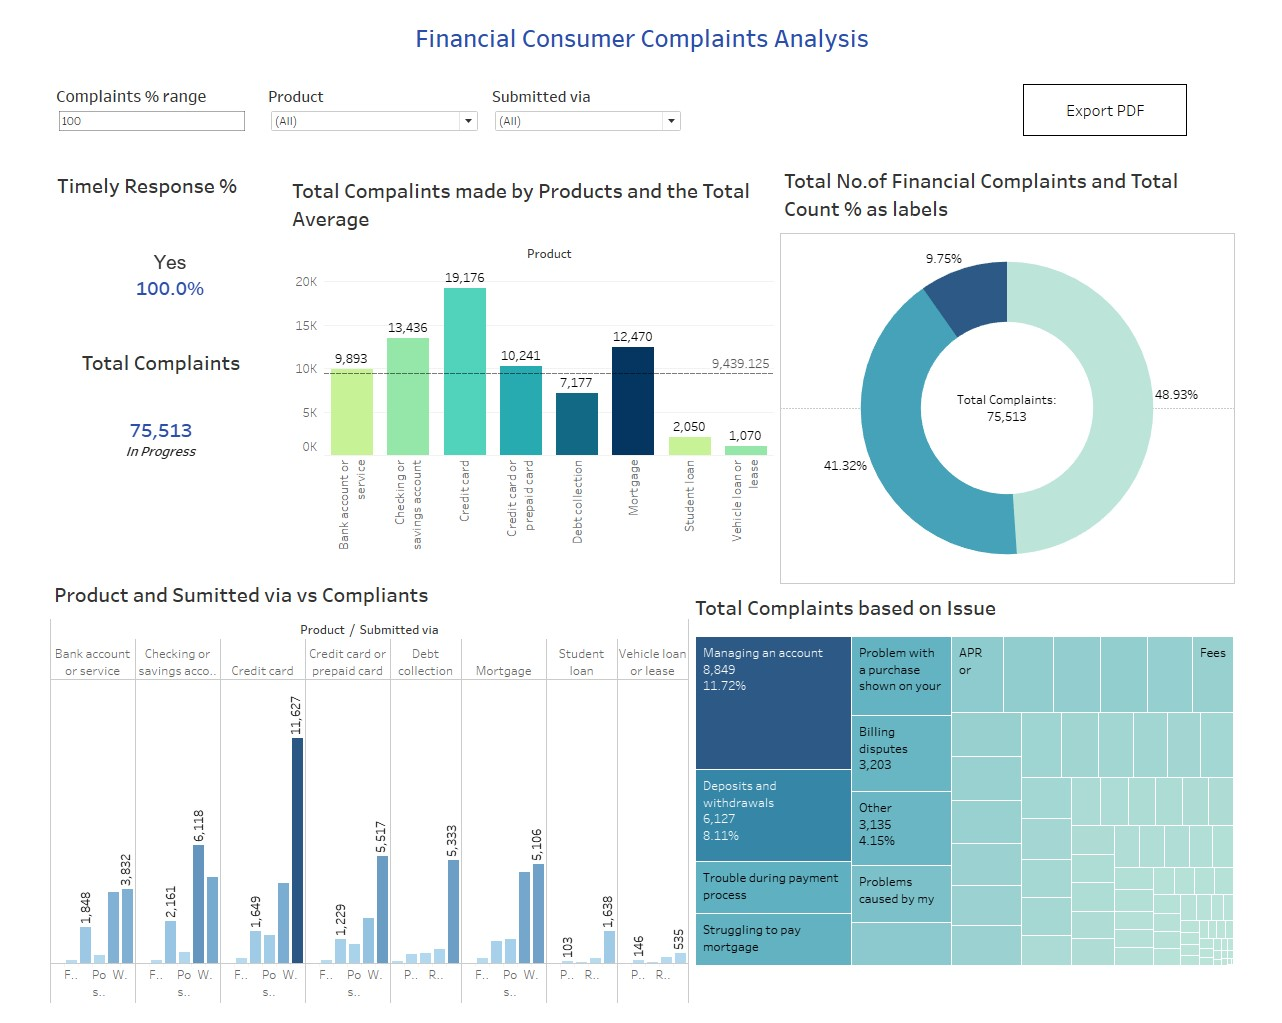

The page's visual inventory and layout, read from the dashboard file:
{"tool":"tableau","page":{"name":"Financial Consumer Complaints Analysis","canvas":[1200,1000],"ordinal":0},"visuals":[{"type":"title","box":[8,8,1184,41]},{"type":"dashboard-object","box":[981,75,164,52]},{"type":"parameter","param":"[Parameters].[Complaint ID Parameter]","box":[14,76,192,112]},{"type":"filter","title":"3 a","param":"[federated.05ys6eq0kw0i1m1bb2ici061wqqn].[none:Product:nk]","box":[226,77,213,80]},{"type":"filter","title":"2 a","param":"[federated.05ys6eq0kw0i1m1bb2ici061wqqn].[none:Submitted via:nk]","box":[450,77,192,61]},{"type":"worksheet","title":"4 a","mark":"Pie","rows":["Calculation_1743737540553609219","Calculation_1743737540553609219"],"box":[738,153.3,454.8,421.7]},{"type":"worksheet","title":"1 b","mark":"Automatic","box":[10.8,158.3,234,175]},{"type":"worksheet","title":"3 a","mark":"Automatic","rows":["Complaint ID"],"cols":["Product"],"box":[246,163.3,486,383.3]},{"type":"worksheet","title":"Total Complaints","mark":"Automatic","box":[14.4,335,210,145]},{"type":"worksheet","title":"2 a","mark":"Automatic","rows":["in_9860DC07CA5C4DB6A8257D99C9A5422B"],"cols":["Product","Submitted via"],"box":[8,567,639,428]},{"type":"worksheet","title":"5th","mark":"Automatic","box":[649,580,546,417]}]}

Visuals, with their boxes in screenshot pixels (x1, y1, x2, y2):
title: 0:35:1154:76
dashboard-object: 942:102:1107:155
parameter: 0:103:161:216
"3 a" filter: 181:104:396:185
"2 a" filter: 407:104:600:166
"4 a" worksheet (Pie marks): 697:181:1155:606
"1 b" worksheet: 0:186:200:362
"3 a" worksheet: 201:191:691:577
"Total Complaints" worksheet: 0:364:179:510
"2 a" worksheet: 0:598:605:1022
"5th" worksheet: 607:611:1157:1022
